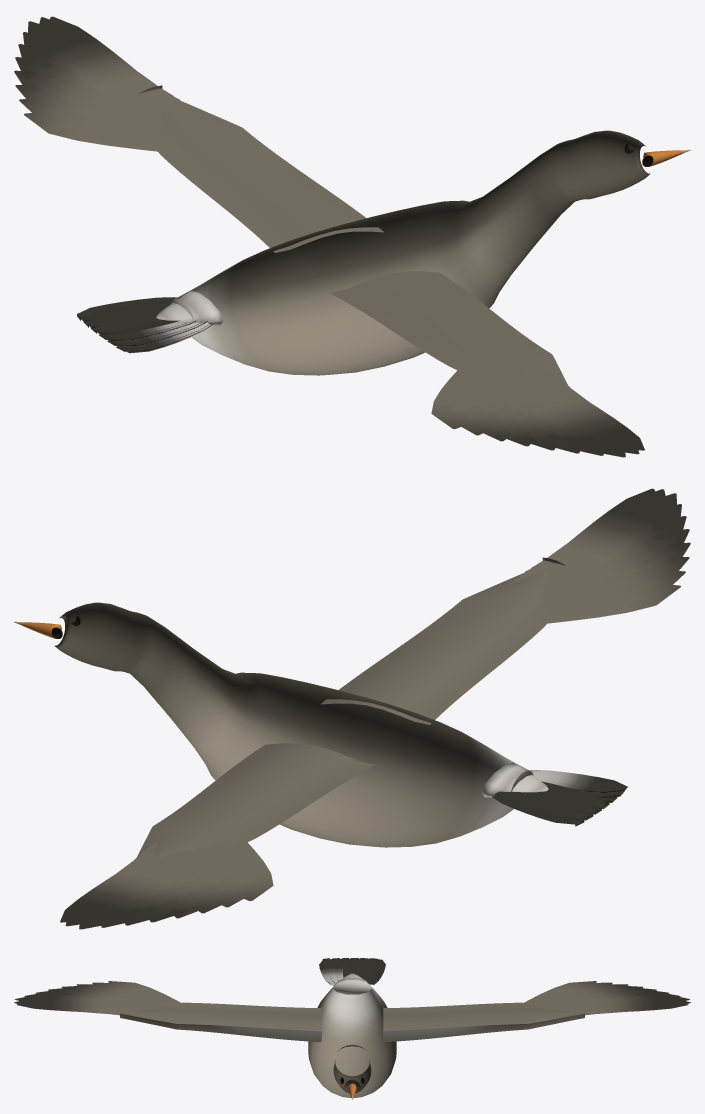
File: SM_Bird_goose_glide.glb
3 views of the same model, one above another, from view 1: azimuth 30°, elevation 25°; view 2: azimuth 150°, elevation 25°; view 3: azimuth 270°, elevation 25° (orthographic). The views are drawn at different scales.
Visible parts, largest first — view 1: SM_Bird_goose_glide; view 2: SM_Bird_goose_glide; view 3: SM_Bird_goose_glide.
Part boxes in pixels (box(x1,y1,x2,y2)): SM_Bird_goose_glide: box(14, 16, 690, 457); SM_Bird_goose_glide: box(14, 488, 690, 929); SM_Bird_goose_glide: box(14, 958, 690, 1099).
Bounding box in the file's own units: 0.876 × 0.2394 × 1.53.
